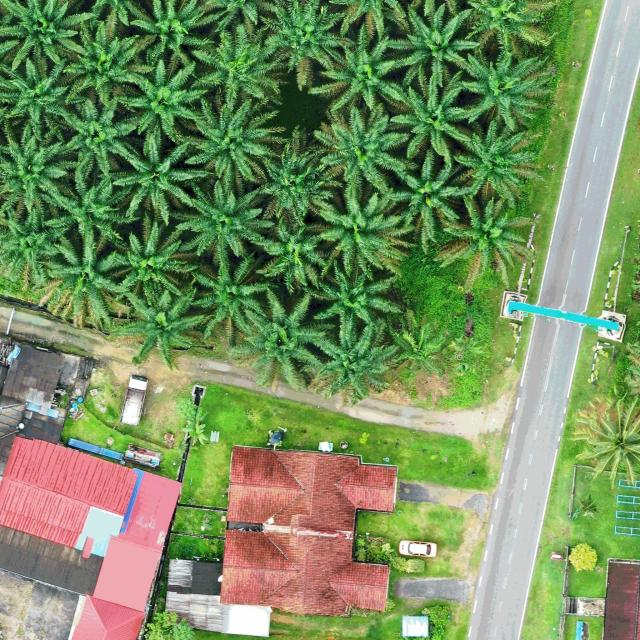Tree: (170, 96, 286, 192), (432, 184, 536, 289), (226, 288, 328, 392), (309, 187, 413, 283), (311, 100, 414, 196), (299, 31, 406, 122), (379, 73, 479, 167), (391, 144, 476, 254), (372, 0, 479, 85), (257, 0, 358, 90), (110, 133, 208, 223), (168, 176, 272, 260), (310, 311, 402, 405), (188, 19, 290, 102), (462, 44, 560, 130), (42, 227, 122, 331), (97, 218, 197, 301), (187, 250, 276, 342), (115, 60, 212, 144), (111, 286, 208, 370), (0, 119, 80, 214), (254, 121, 329, 221), (62, 15, 145, 103), (54, 95, 136, 184), (303, 258, 404, 330), (451, 124, 531, 204), (0, 0, 84, 74), (42, 162, 121, 240), (254, 214, 329, 296), (0, 206, 71, 292), (0, 54, 72, 132), (574, 399, 640, 484), (463, 0, 565, 55), (128, 0, 215, 62), (382, 306, 448, 380), (144, 610, 195, 640), (568, 542, 598, 572), (44, 213, 74, 239), (181, 419, 208, 446), (574, 494, 601, 520), (176, 396, 198, 419)
